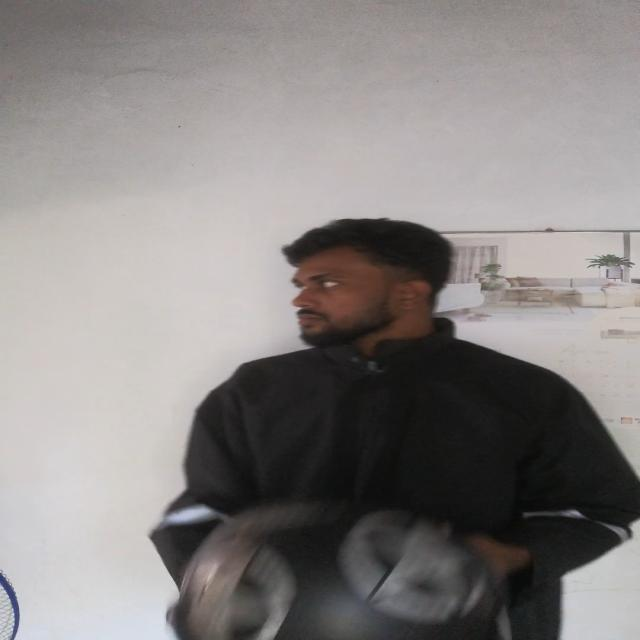Jacket_Wearer: (148, 307, 640, 640)
Person: (148, 213, 640, 640)
